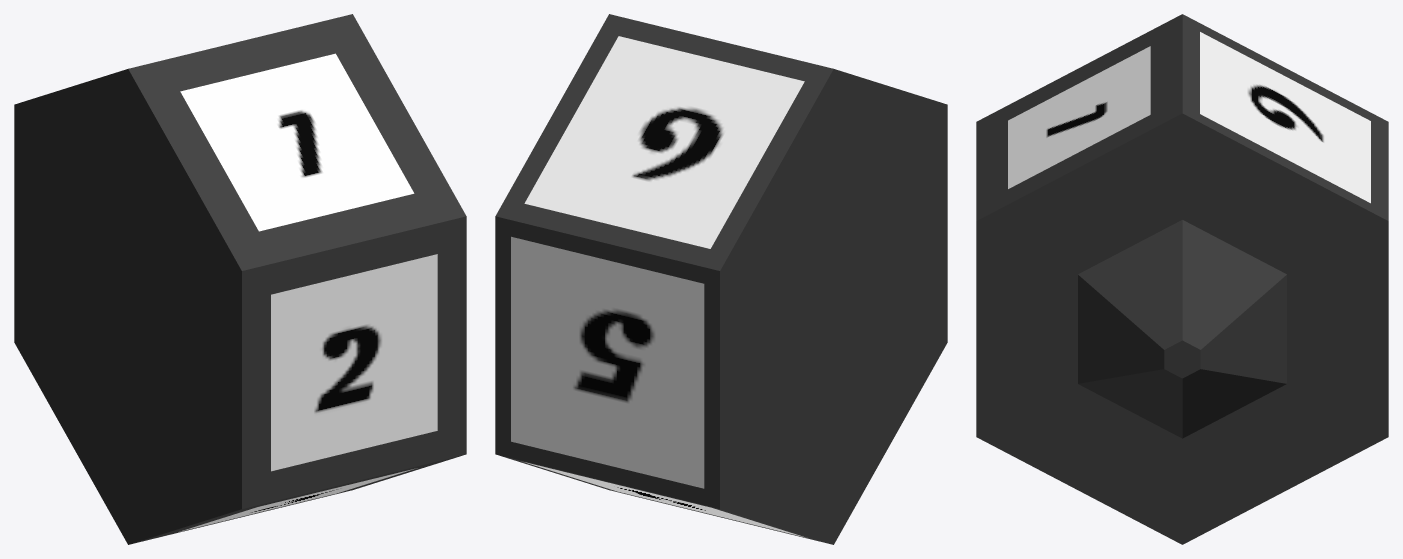
The model's file is button.glb.
3 renders of one model, left to right at view 1: azimuth 30°, elevation 25°; view 2: azimuth 150°, elevation 25°; view 3: azimuth 270°, elevation 25°, orthographic. The views are drawn at different scales.
Parts seen in each view (by area): view 1: Cube.004; view 2: Cube.004; view 3: Cube.004.
Part boxes in pixels (bbox=[...]): Cube.004: bbox=[14, 14, 466, 544]; Cube.004: bbox=[495, 14, 947, 544]; Cube.004: bbox=[976, 14, 1388, 544].
Bounding box in the file's own units: 0.3618 × 0.5612 × 0.486.
2 materials, 1 textured.
